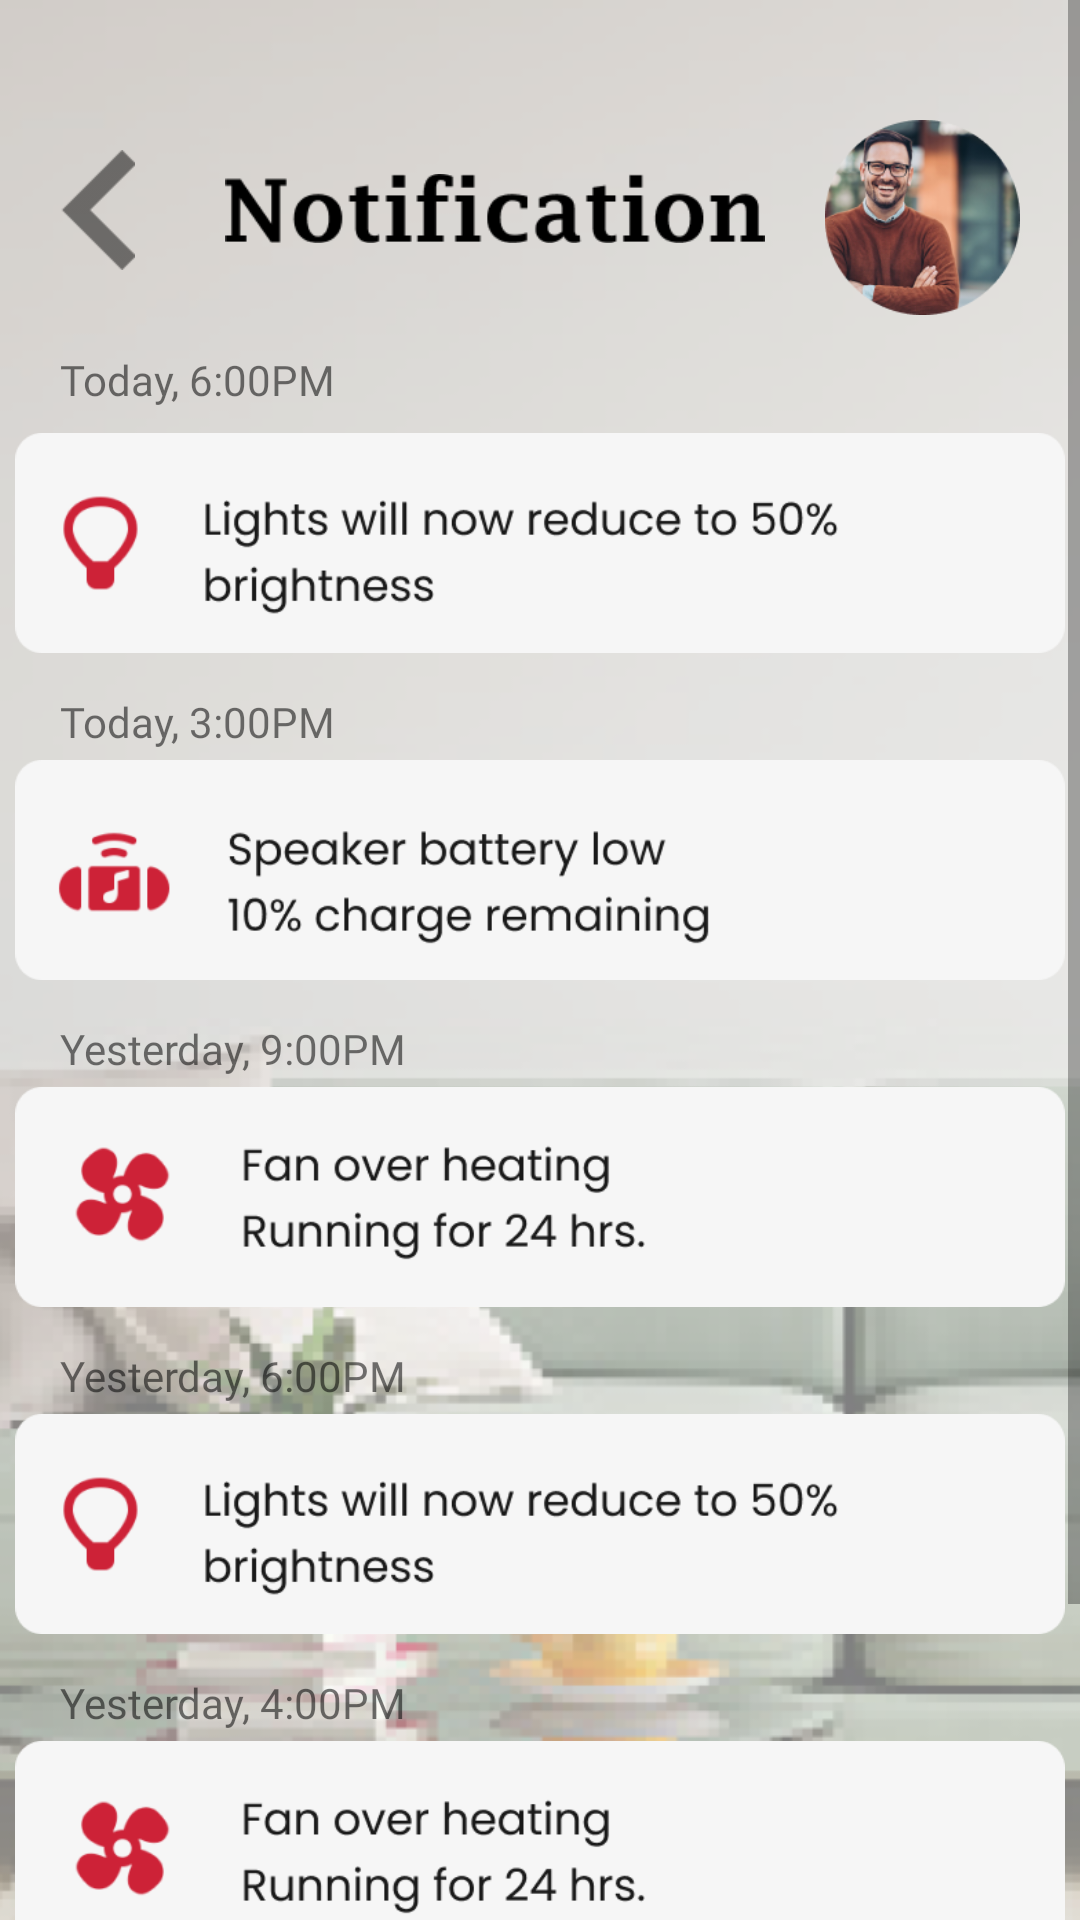

Icons on this 1080*1920 Android screen, each with the point to tap as [x,y]:
back but: [98,210]
profile photo: [922,217]
